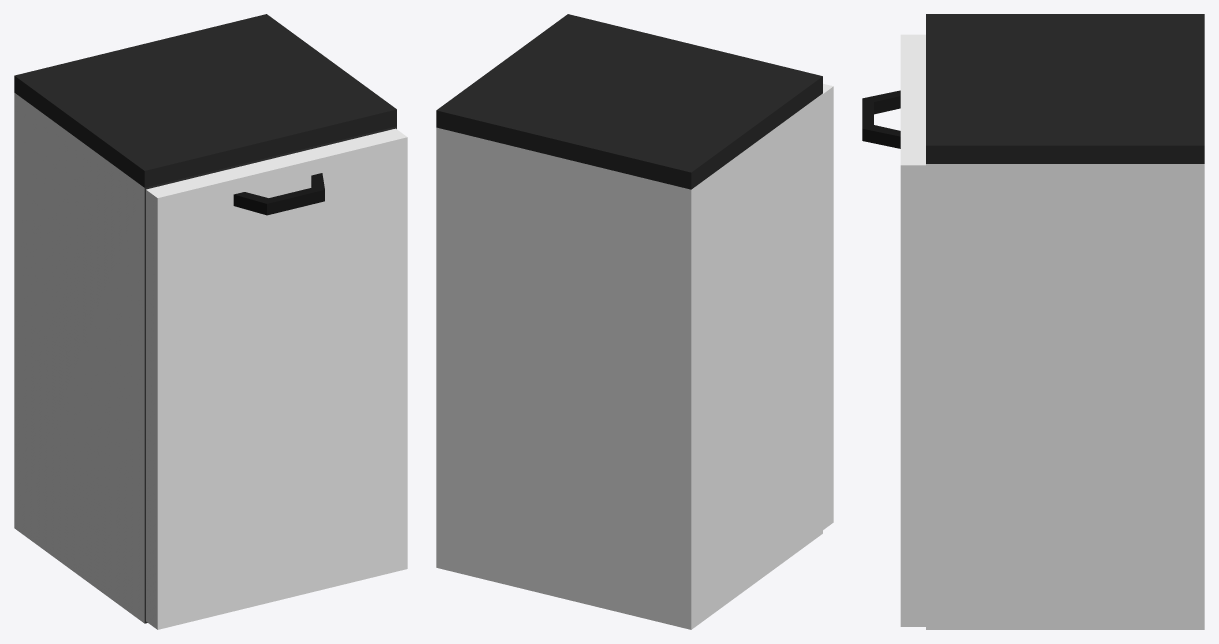
The model's file is Kitchen_Cabinet_1A.fbx.
3 views of the same model, side by side, from view 1: azimuth 30°, elevation 25°; view 2: azimuth 150°, elevation 25°; view 3: azimuth 270°, elevation 25° (orthographic). The views are drawn at different scales.
Parts seen in each view (by area): view 1: polySurface953; view 2: polySurface953; view 3: polySurface953.
Part boxes in pixels (x1,y1,x2,y2): polySurface953: [14, 14, 407, 629]; polySurface953: [436, 14, 833, 629]; polySurface953: [862, 14, 1204, 629].
Bounding box in the file's own units: 0.7792 × 1.34 × 0.8565.
1 material, 1 textured.
